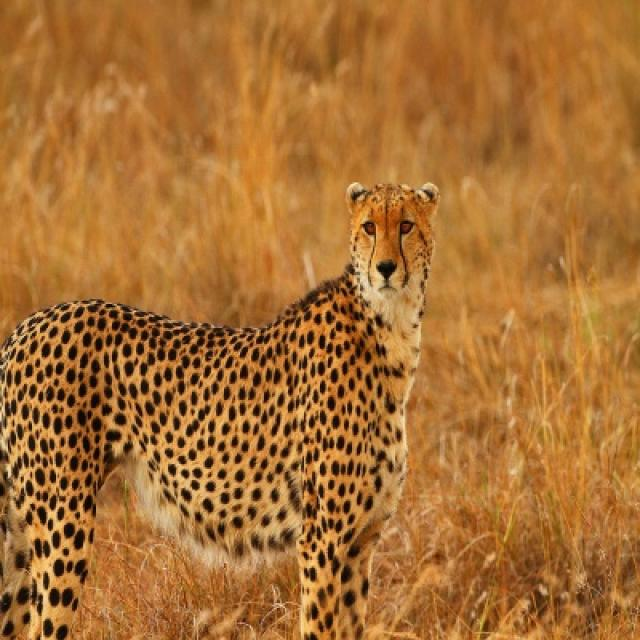Cheetah: (0, 182, 440, 638)
